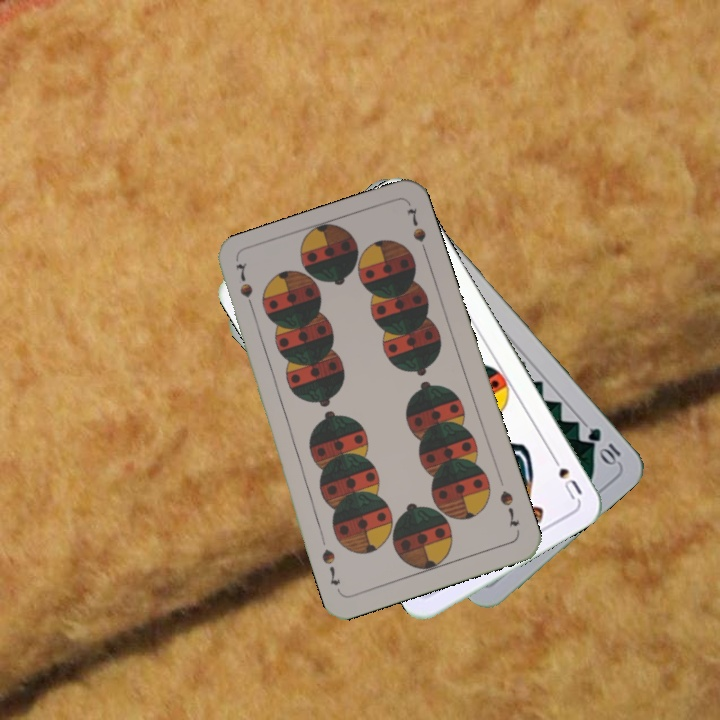G10: (583, 423, 624, 468)
S7: (495, 486, 522, 529), (235, 279, 258, 318)
SU: (546, 449, 585, 503)
